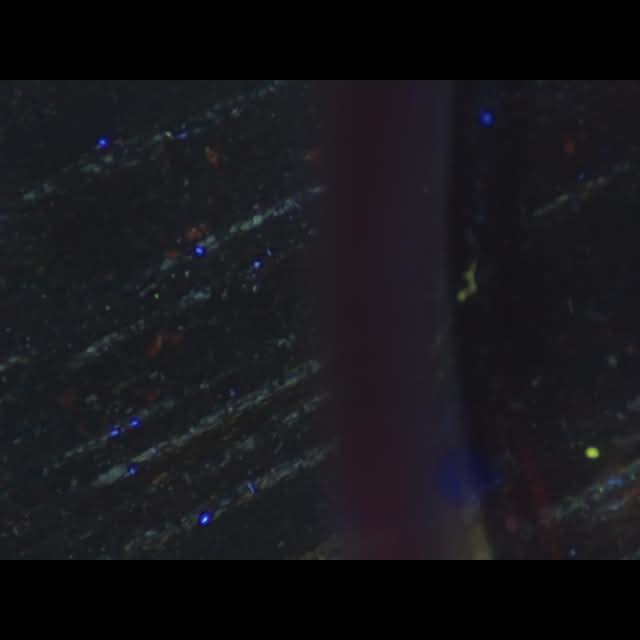Fibre: (457, 260, 479, 302)
microbeads: (585, 446, 599, 460)
